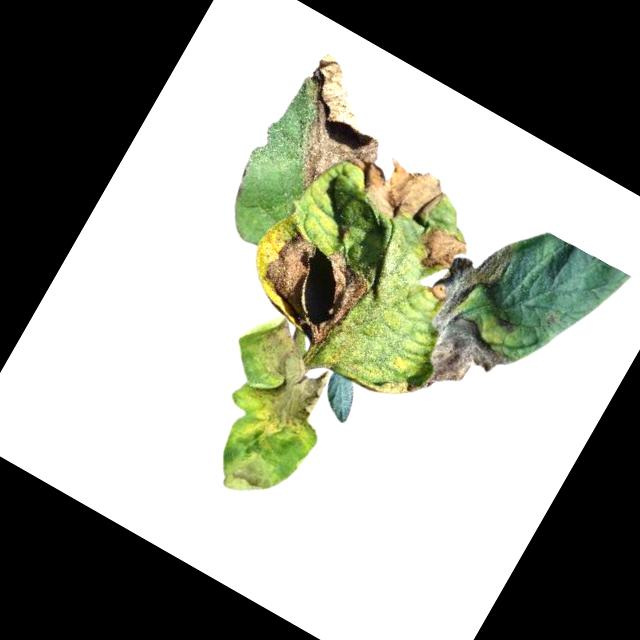Late_blight: (259, 49, 413, 214), (244, 221, 380, 356), (224, 312, 349, 447), (414, 221, 519, 343), (409, 308, 520, 421), (334, 135, 451, 237), (215, 438, 293, 513), (408, 218, 474, 283)
